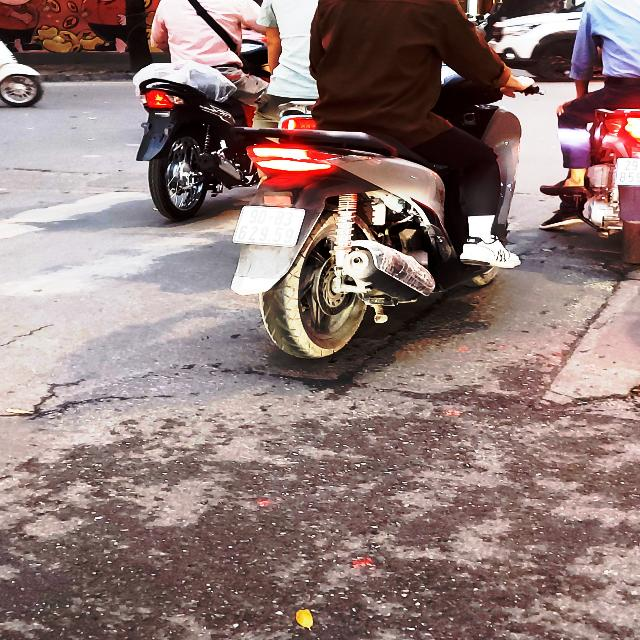license_plate: (234, 205, 310, 248)
